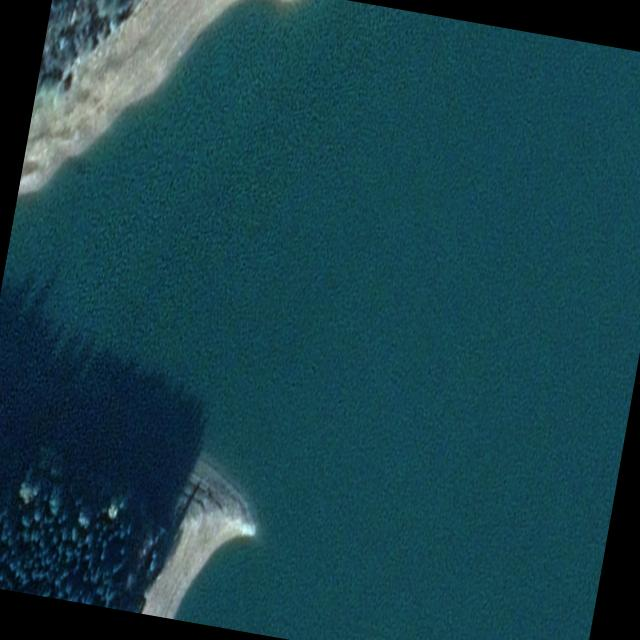bare-soil: (18, 0, 263, 203), (144, 465, 257, 618)
tree: (0, 449, 169, 611), (35, 0, 149, 95)
water: (0, 0, 640, 640)
